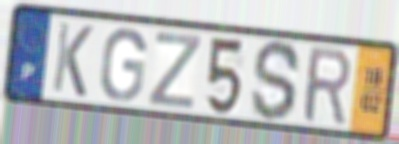5: (203, 33, 248, 117)
G: (97, 26, 149, 105)
K: (49, 19, 96, 101)
R: (301, 44, 353, 128)
S: (249, 37, 304, 124)
Z: (145, 29, 204, 112)
